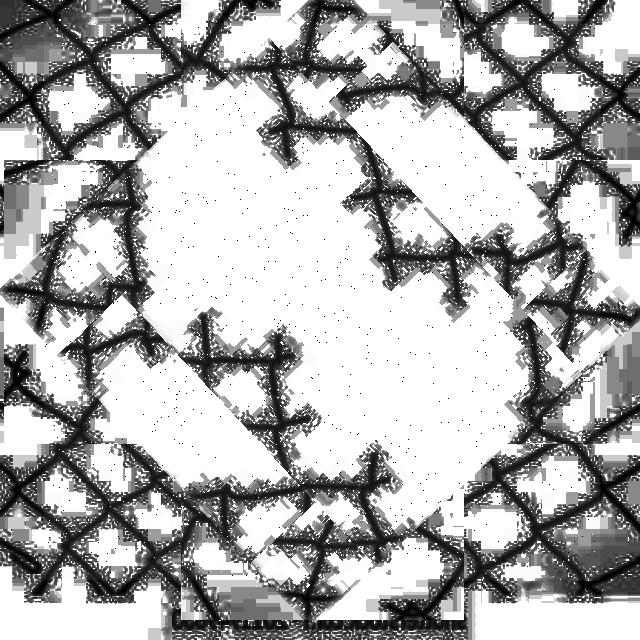anomaly-fence: (44, 24, 600, 580)
